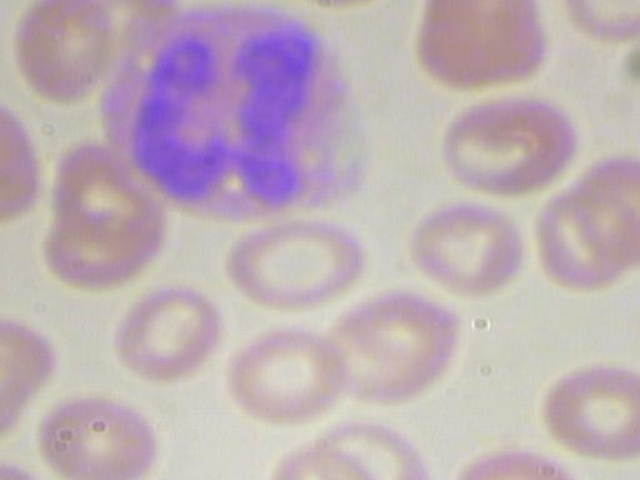RBC: (314, 285, 470, 409), (418, 92, 587, 201), (222, 216, 384, 312), (222, 320, 359, 426), (400, 194, 537, 299), (103, 280, 228, 389), (524, 186, 640, 292), (415, 0, 552, 89), (0, 0, 114, 105), (35, 391, 168, 480), (525, 365, 640, 464), (0, 98, 45, 236)
WBC: (95, 3, 393, 229)
